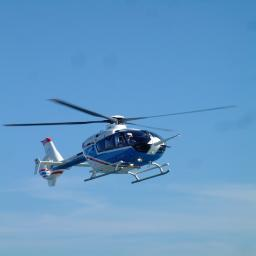helicopter: (4, 100, 232, 189)
